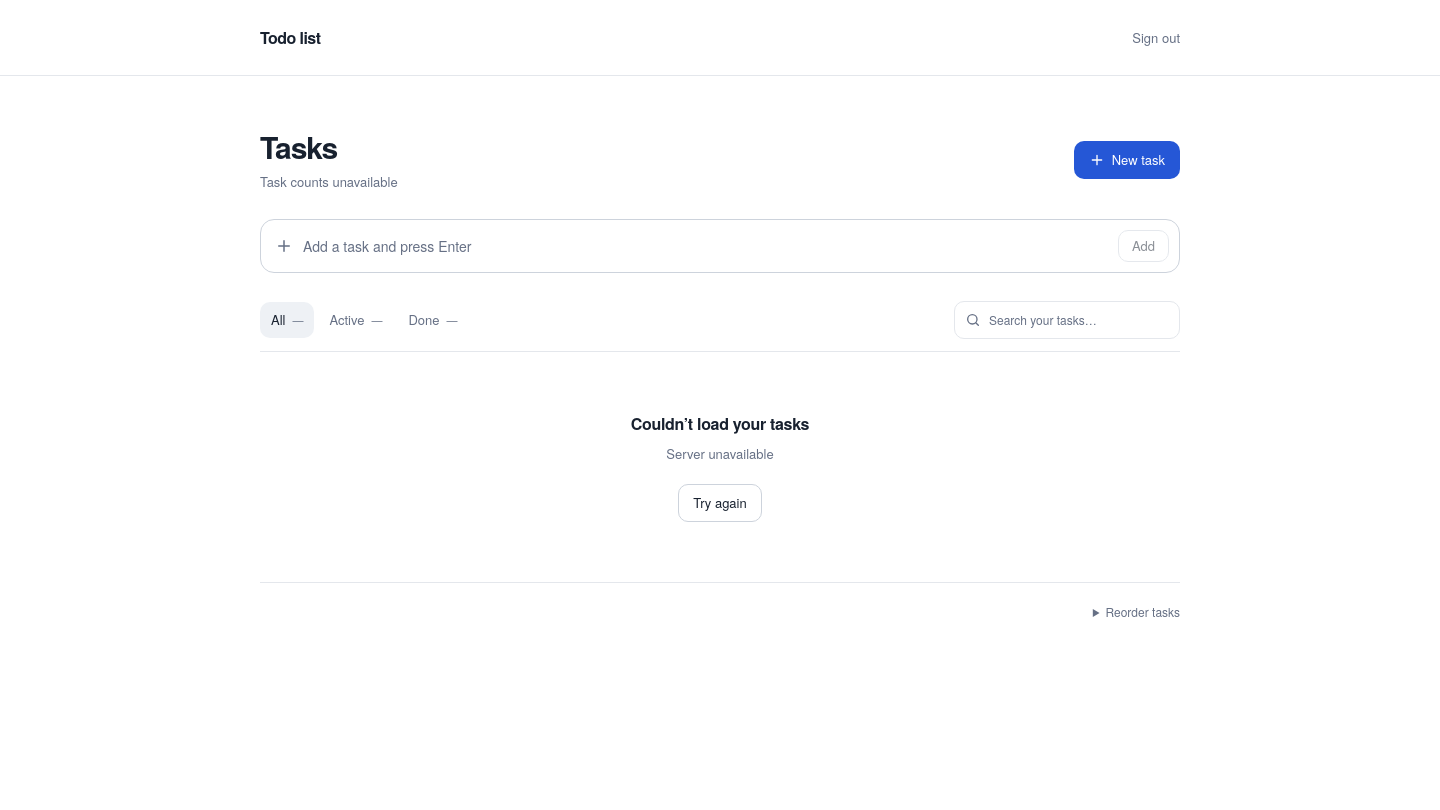
Test: task list › loads tasks again after a request fails
Expected: the message shows "Couldn’t load your tasks", [631,412,809,435]
Click the button "Try again". click: (720,502)
box: [678,484,762,522]
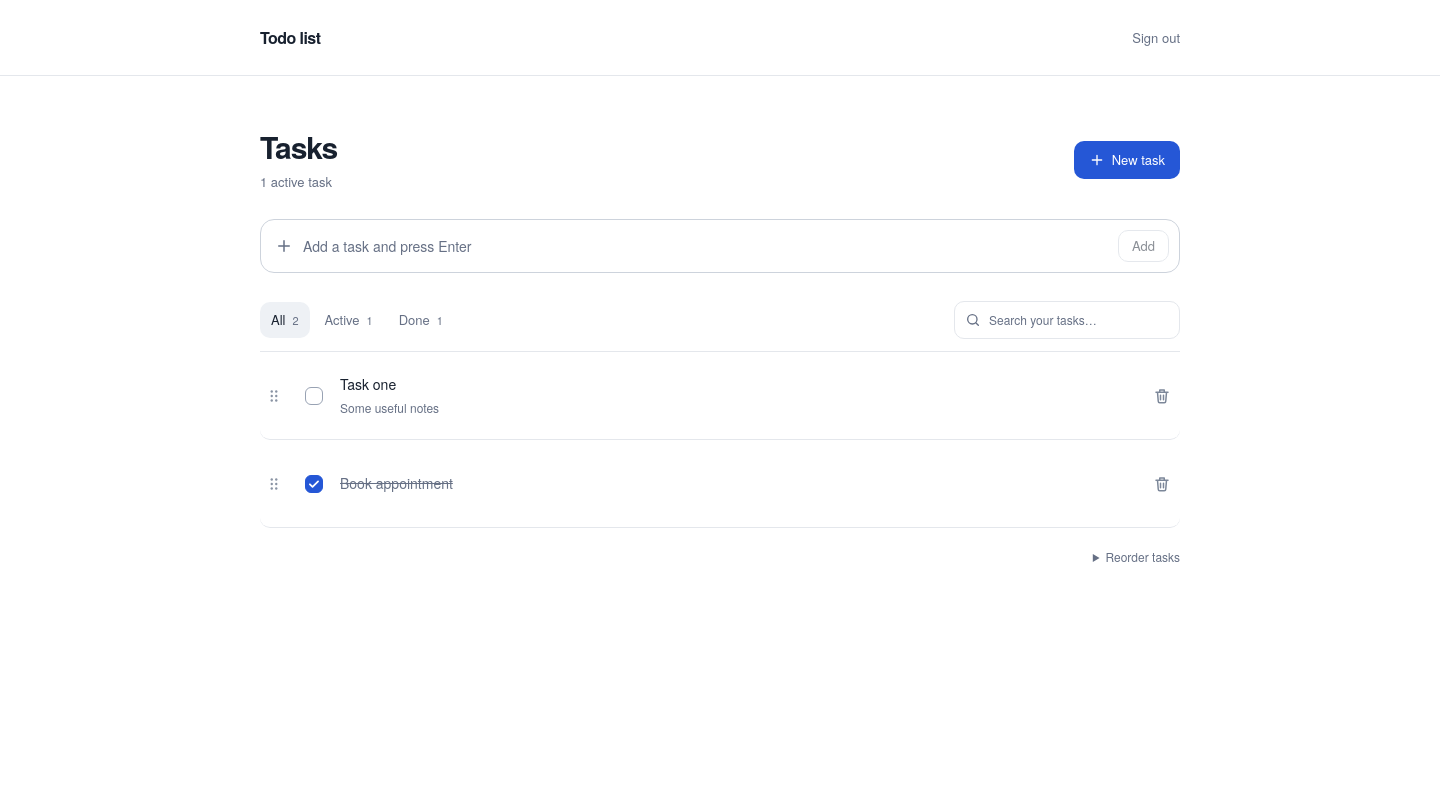
Now the text "Task one" is shown, box [340,374,396,394]
